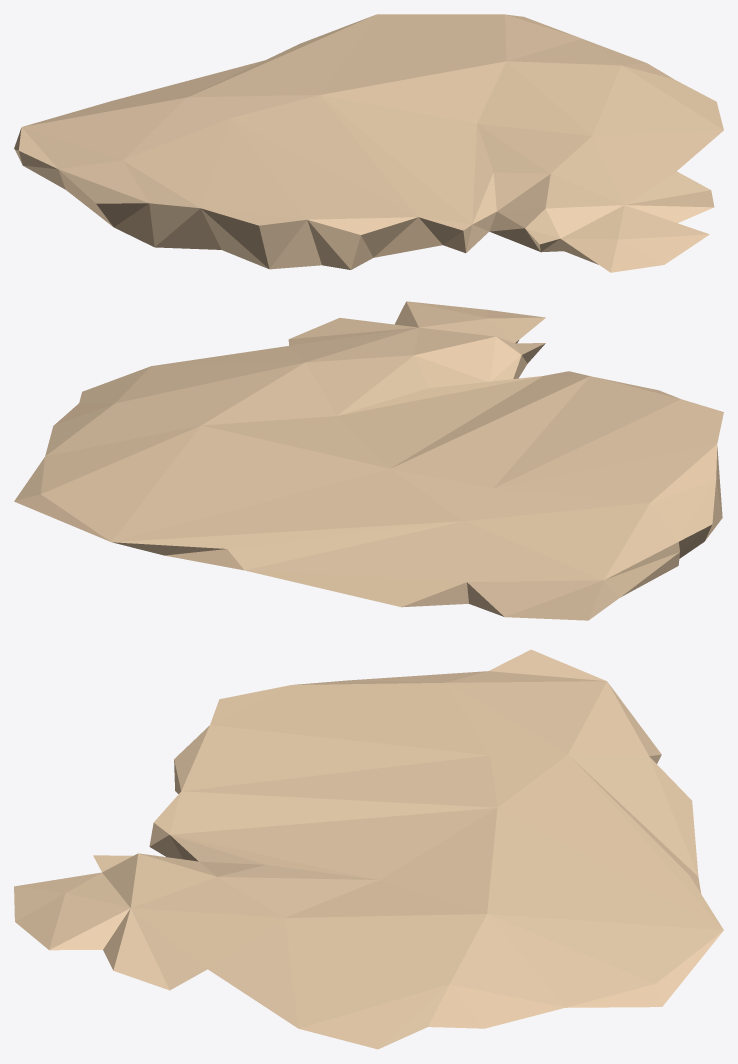
The model's file is chicken.fbx.
3 renders of one model, top to bottom at view 1: azimuth 30°, elevation 25°; view 2: azimuth 150°, elevation 25°; view 3: azimuth 270°, elevation 25°, orthographic. The views are drawn at different scales.
Parts seen in each view (by area): view 1: chicken; view 2: chicken; view 3: chicken.
Boxes of the visible parts, x1=… form: chicken: x1=14, y1=14, x2=723, y2=272; chicken: x1=14, y1=301, x2=723, y2=620; chicken: x1=14, y1=649, x2=723, y2=1049.
Bounding box in the file's own units: 1.93 × 0.1725 × 1.7.
